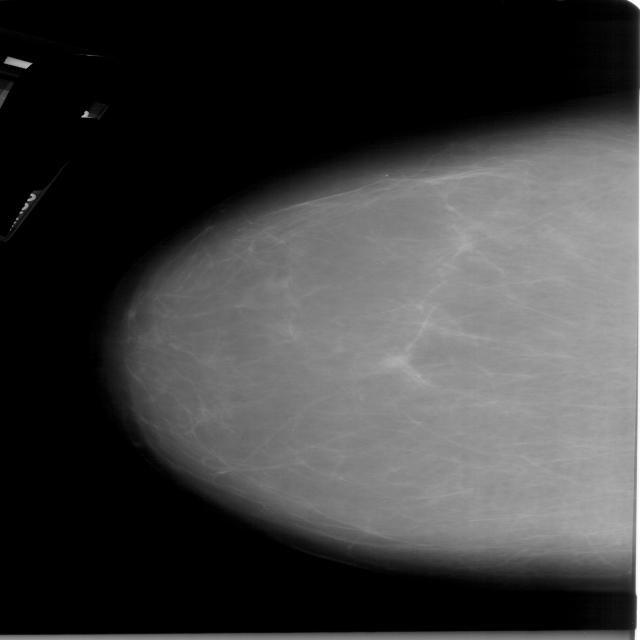normal: (101, 123, 640, 574)
